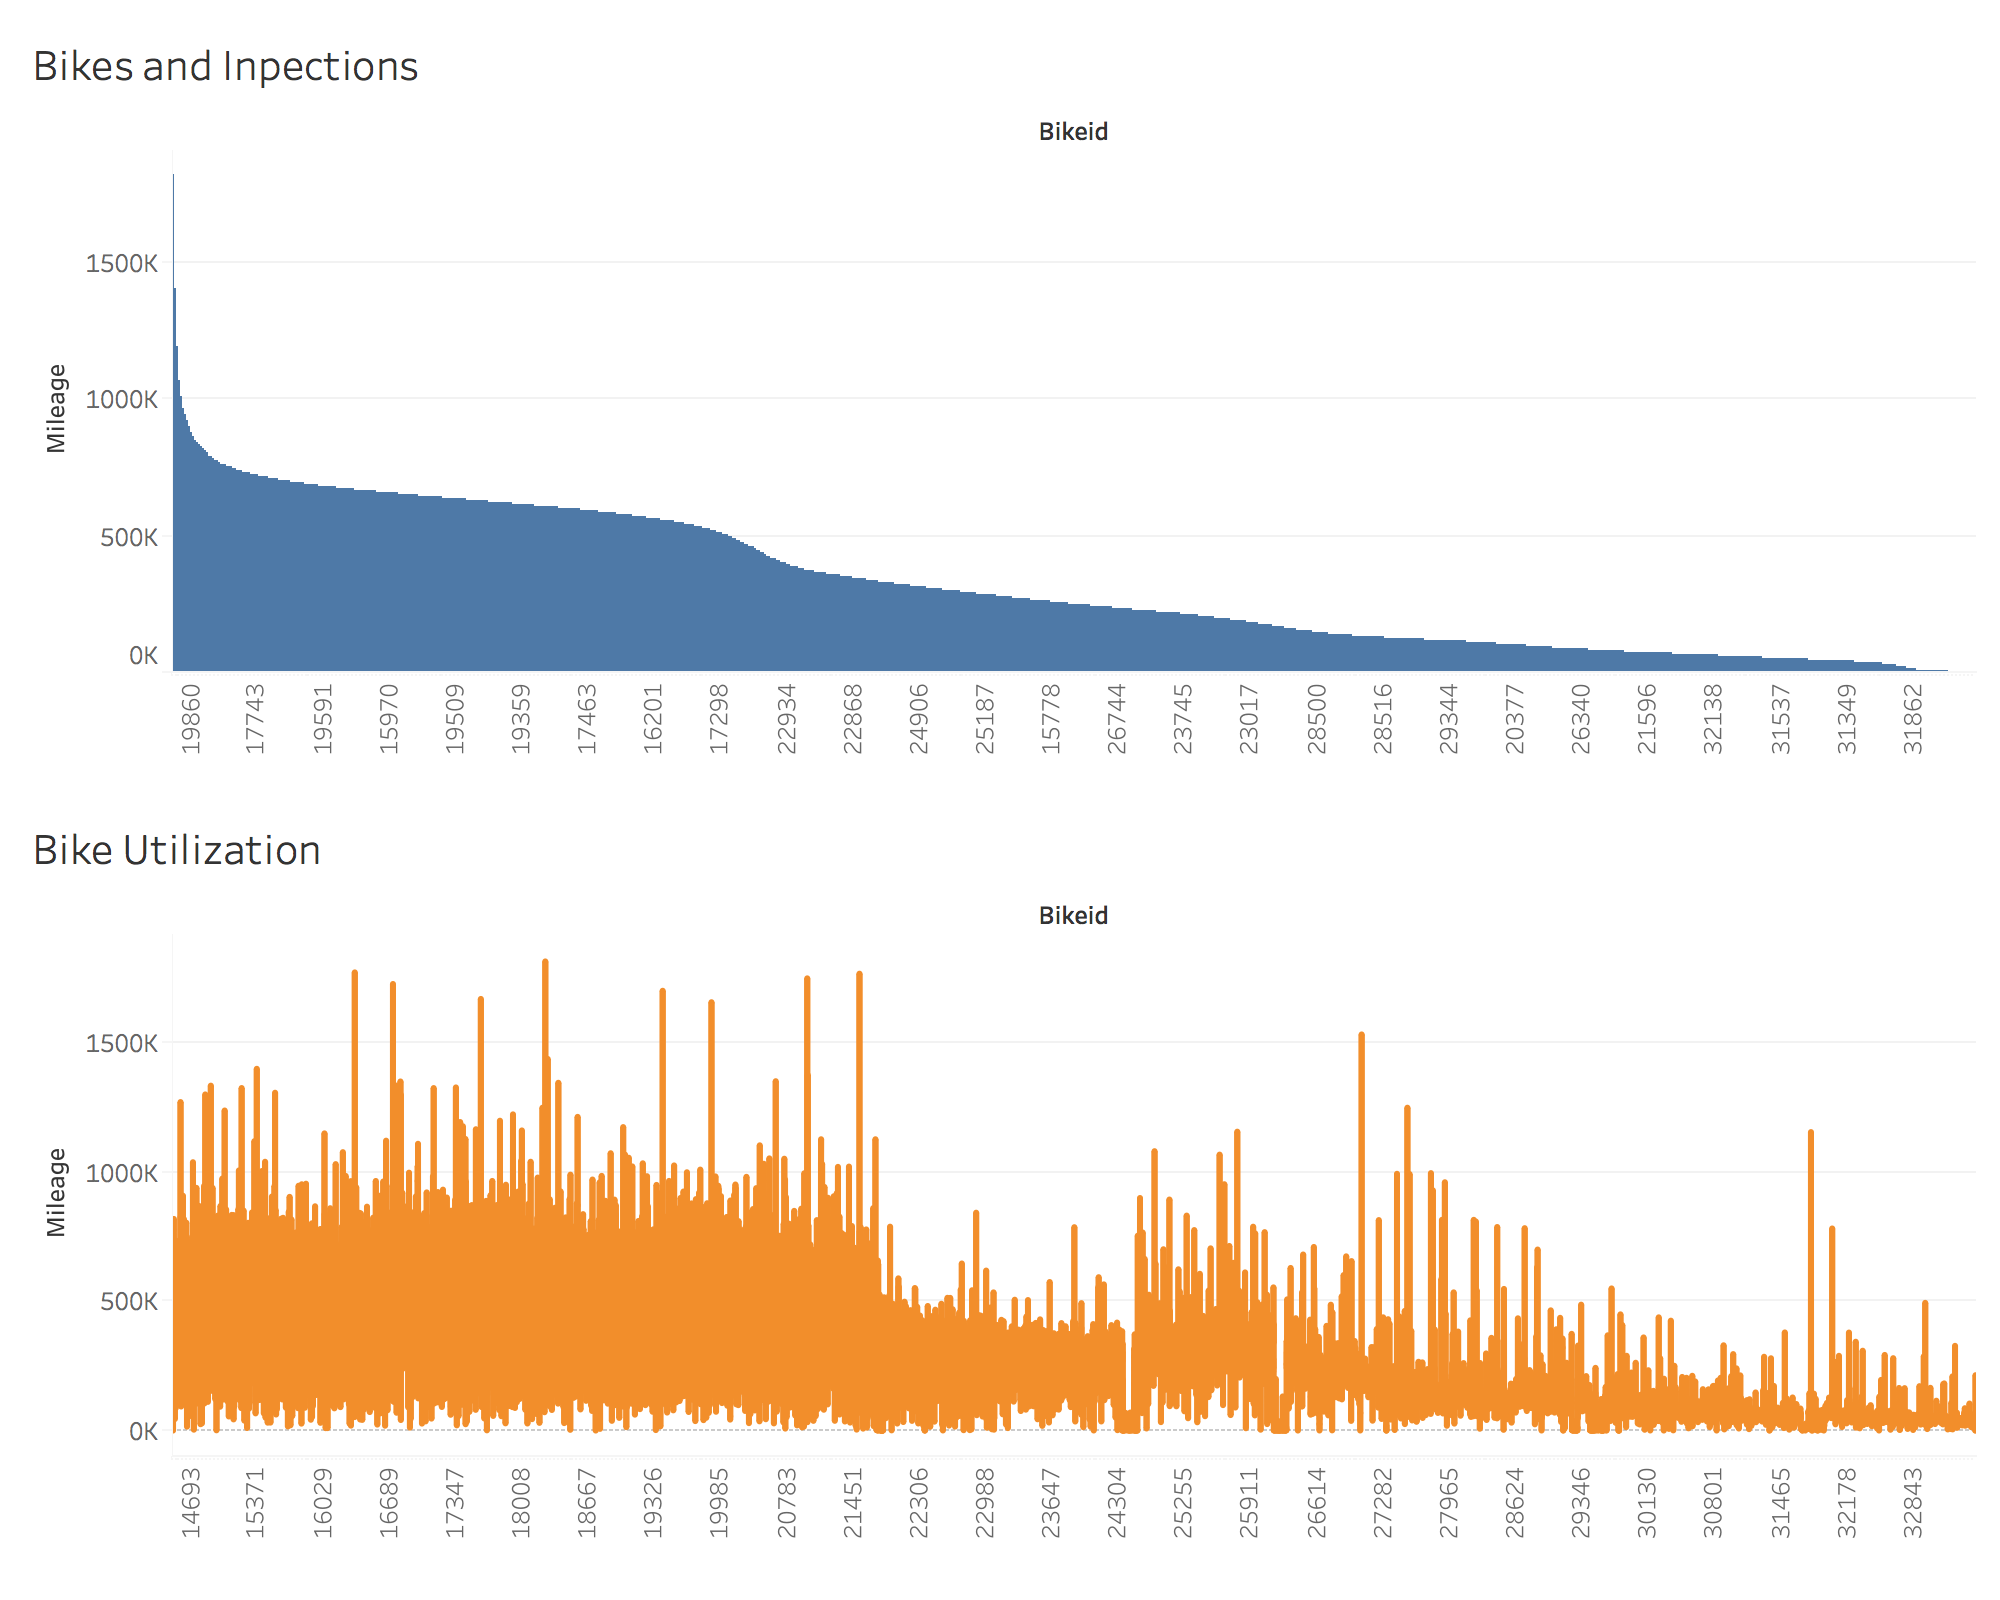

This screenshot's page, from the dashboard's own definition file:
{"tool":"tableau","page":{"name":"BikeData","canvas":[1000,800],"ordinal":0},"visuals":[{"type":"worksheet","title":"Bikes and Inpections","mark":"Bar","rows":["Calculation_19632928416137216"],"cols":["bikeid"],"box":[8,8,984,392]},{"type":"worksheet","title":"Bike Utilization","mark":"Line","rows":["Calculation_19632928416137216"],"cols":["bikeid"],"box":[8,400,984,392]}]}

Visuals, with their boxes in screenshot pixels (x1, y1, x2, y2), scaled from the page's 1000x800 canvas onto the 2000x1600 screenshot:
"Bikes and Inpections" worksheet (Bar marks): 16:16:1984:800
"Bike Utilization" worksheet (Line marks): 16:800:1984:1584
